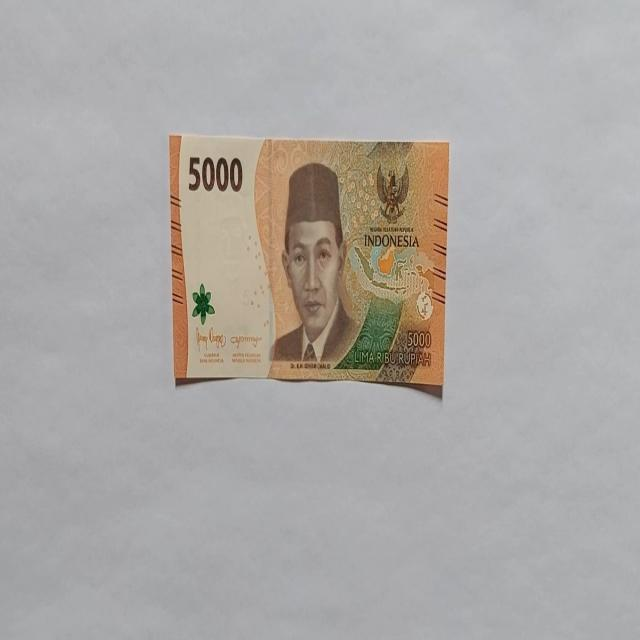lima ribu rupiah: (169, 132, 449, 392), (268, 160, 360, 367)
